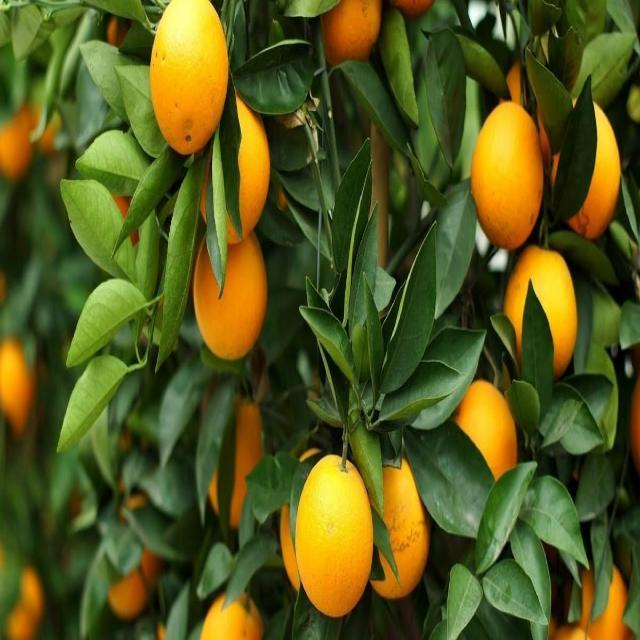Jeruk Sudah Matang: (294, 450, 374, 620), (150, 0, 230, 154), (197, 89, 270, 247), (470, 99, 545, 252), (192, 223, 272, 365), (501, 246, 579, 385), (550, 98, 620, 237), (365, 459, 430, 601), (202, 399, 265, 531), (454, 381, 518, 506), (104, 494, 163, 617), (504, 60, 559, 166), (572, 559, 632, 640), (97, 189, 142, 288), (321, 0, 381, 67), (0, 330, 36, 437), (200, 589, 264, 640), (4, 566, 44, 640), (1, 105, 34, 177)
